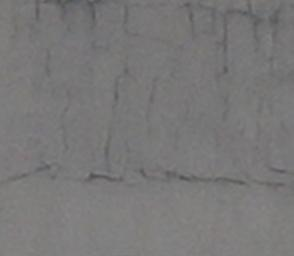fissura: (0, 0, 289, 194)
